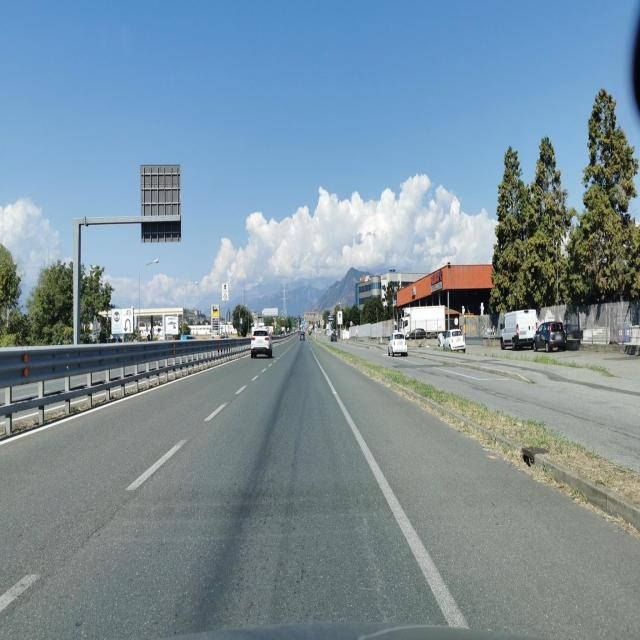car: (534, 320, 566, 352), (250, 325, 273, 359), (438, 328, 467, 353), (388, 330, 408, 357), (331, 330, 338, 342), (300, 334, 306, 342)
